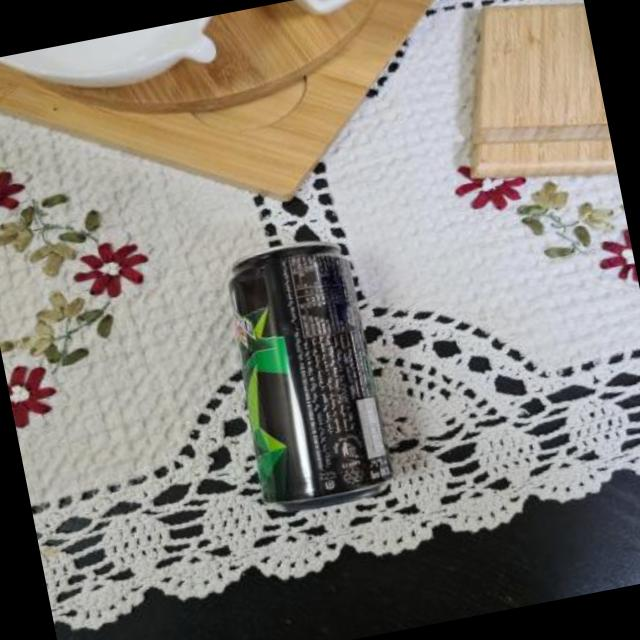metal: (231, 239, 391, 500)
